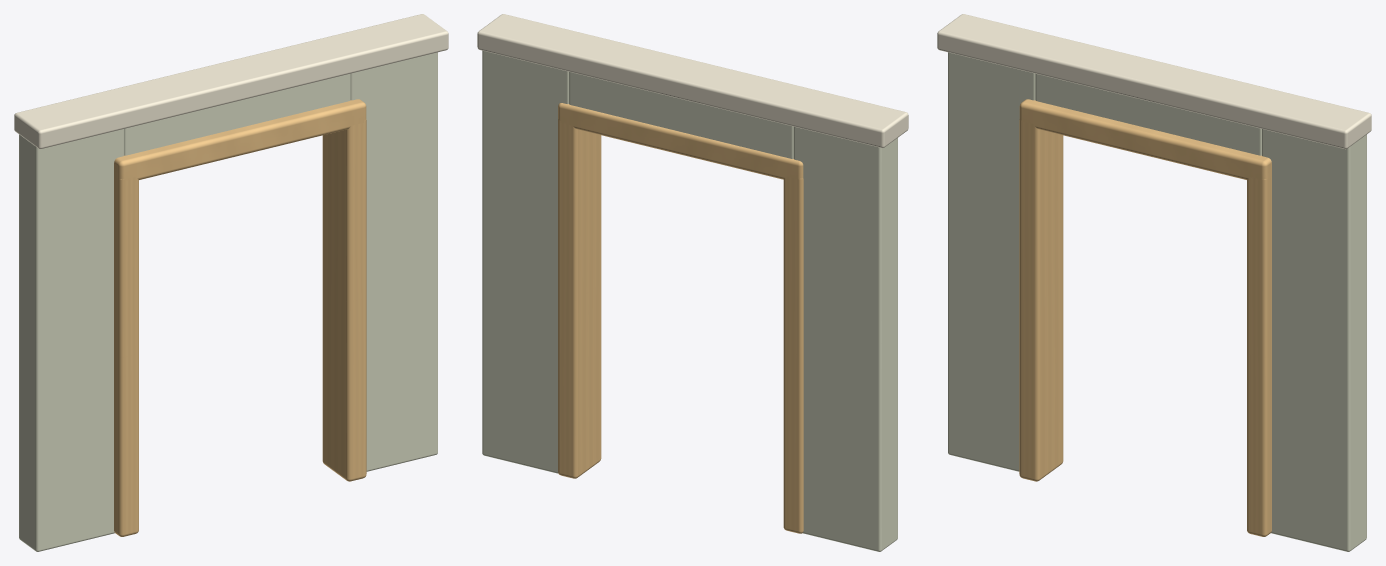
Rendered from Wall_Door.glb.
The picture shows the model from 3 angles, left to right: view 1: azimuth 30°, elevation 25°; view 2: azimuth 150°, elevation 25°; view 3: azimuth 330°, elevation 25°; orthographic projection.
Visible parts, largest first — view 1: Wall_Door; view 2: Wall_Door; view 3: Wall_Door.
Boxes of the visible parts, x1=… form: Wall_Door: x1=14, y1=14, x2=448, y2=551; Wall_Door: x1=477, y1=14, x2=908, y2=551; Wall_Door: x1=937, y1=14, x2=1371, y2=551.
Bounding box in the file's own units: 2.04 × 2.03 × 0.2325.
3 materials, 1 textured.
